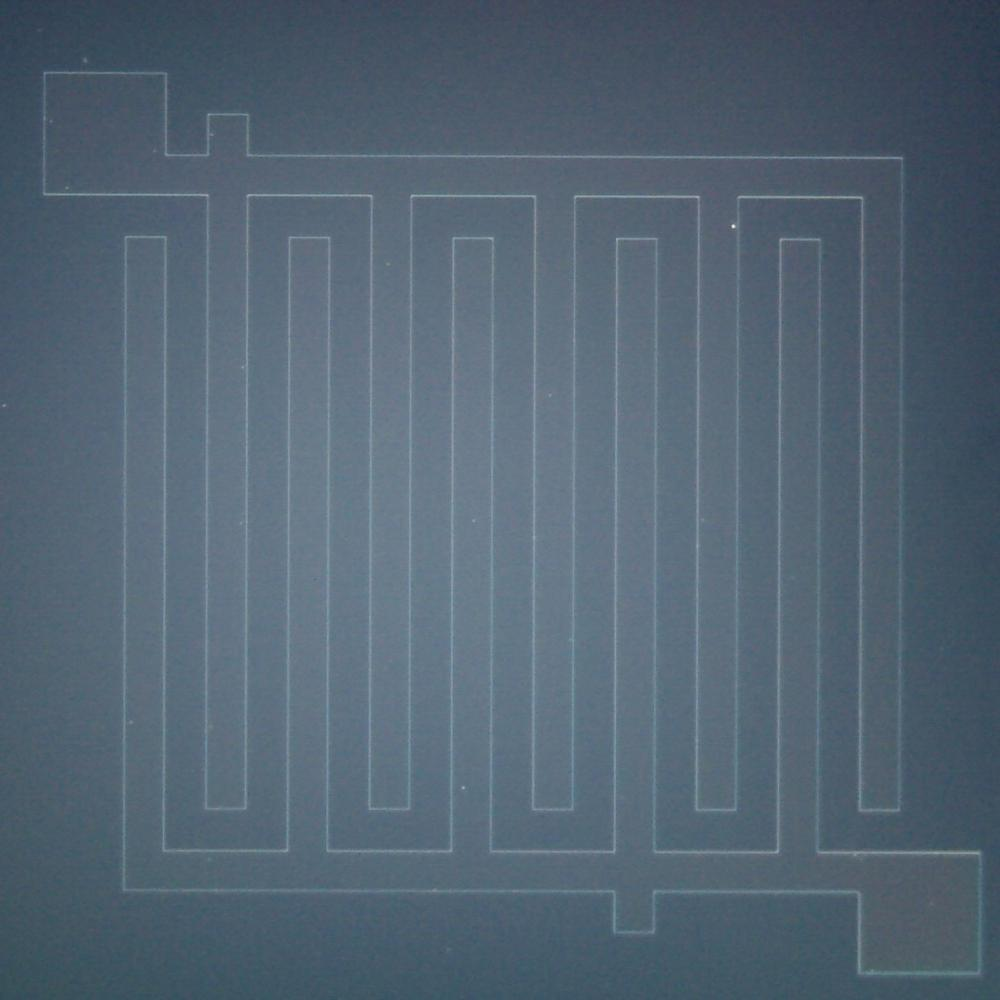dot: (81, 57, 87, 64), (49, 118, 54, 124), (240, 365, 246, 370), (2, 403, 7, 408), (471, 519, 476, 524), (128, 720, 134, 724), (731, 224, 736, 228), (210, 132, 214, 136), (65, 186, 69, 190), (386, 262, 390, 266), (548, 394, 552, 398), (462, 786, 466, 790)
